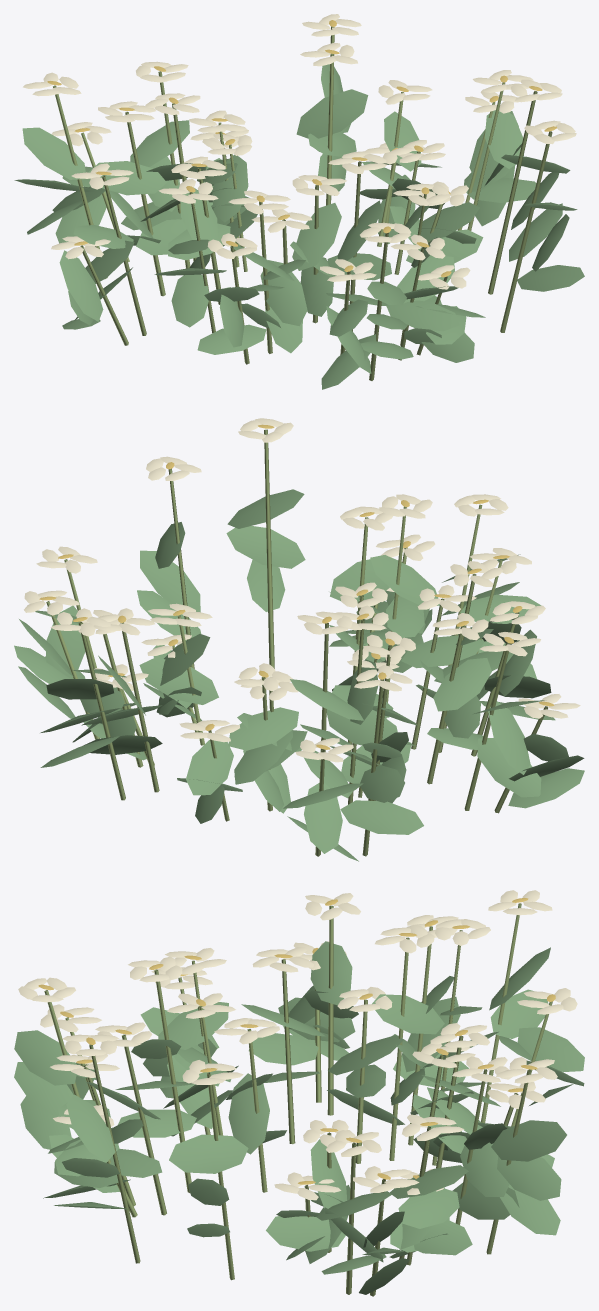
File: study_bank_patch_0.glb
3 views of the same model, one above another, from view 1: azimuth 30°, elevation 25°; view 2: azimuth 150°, elevation 25°; view 3: azimuth 270°, elevation 25° (orthographic). The views are drawn at different scales.
Visible parts, largest first — view 1: study_bank_patch_0_StudyLeafJade, study_bank_patch_0_StudyCream, study_bank_patch_0_LakeReed, study_bank_patch_0_LakePollen; view 2: study_bank_patch_0_StudyLeafJade, study_bank_patch_0_StudyCream, study_bank_patch_0_LakeReed, study_bank_patch_0_LakePollen; view 3: study_bank_patch_0_StudyLeafJade, study_bank_patch_0_StudyCream, study_bank_patch_0_LakeReed, study_bank_patch_0_LakePollen.
Part boxes in pixels (left/top/right/bottom): study_bank_patch_0_StudyLeafJade: left=14, top=64, right=584, bottom=389; study_bank_patch_0_StudyCream: left=23, top=14, right=576, bottom=289; study_bank_patch_0_LakeReed: left=53, top=26, right=552, bottom=380; study_bank_patch_0_LakePollen: left=47, top=20, right=556, bottom=277; study_bank_patch_0_StudyLeafJade: left=14, top=489, right=584, bottom=861; study_bank_patch_0_StudyCream: left=24, top=418, right=580, bottom=762; study_bank_patch_0_LakeReed: left=46, top=429, right=547, bottom=856; study_bank_patch_0_LakePollen: left=39, top=424, right=554, bottom=749; study_bank_patch_0_StudyLeafJade: left=14, top=941, right=584, bottom=1294; study_bank_patch_0_StudyCream: left=18, top=890, right=577, bottom=1200; study_bank_patch_0_LakeReed: left=44, top=903, right=552, bottom=1296; study_bank_patch_0_LakePollen: left=38, top=898, right=555, bottom=1184.
Bounding box in the file's own units: 1.55 × 0.6333 × 1.38.
